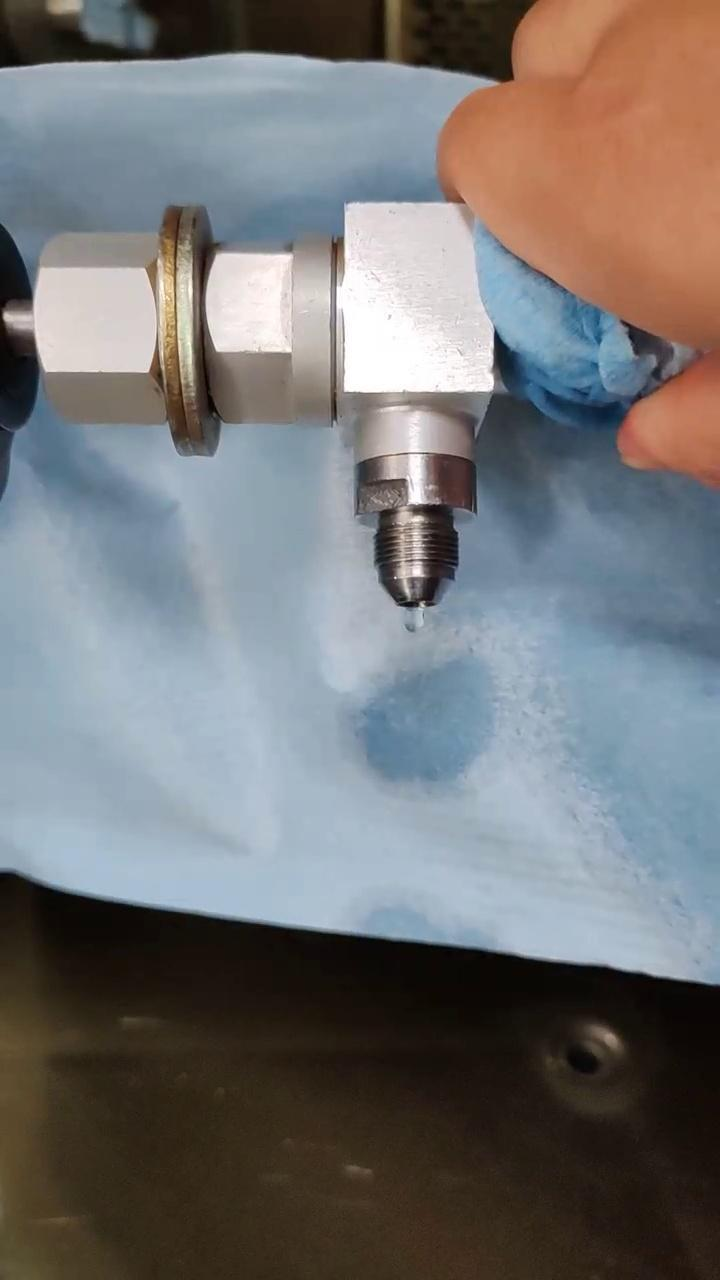water drop: (404, 607, 425, 633)
